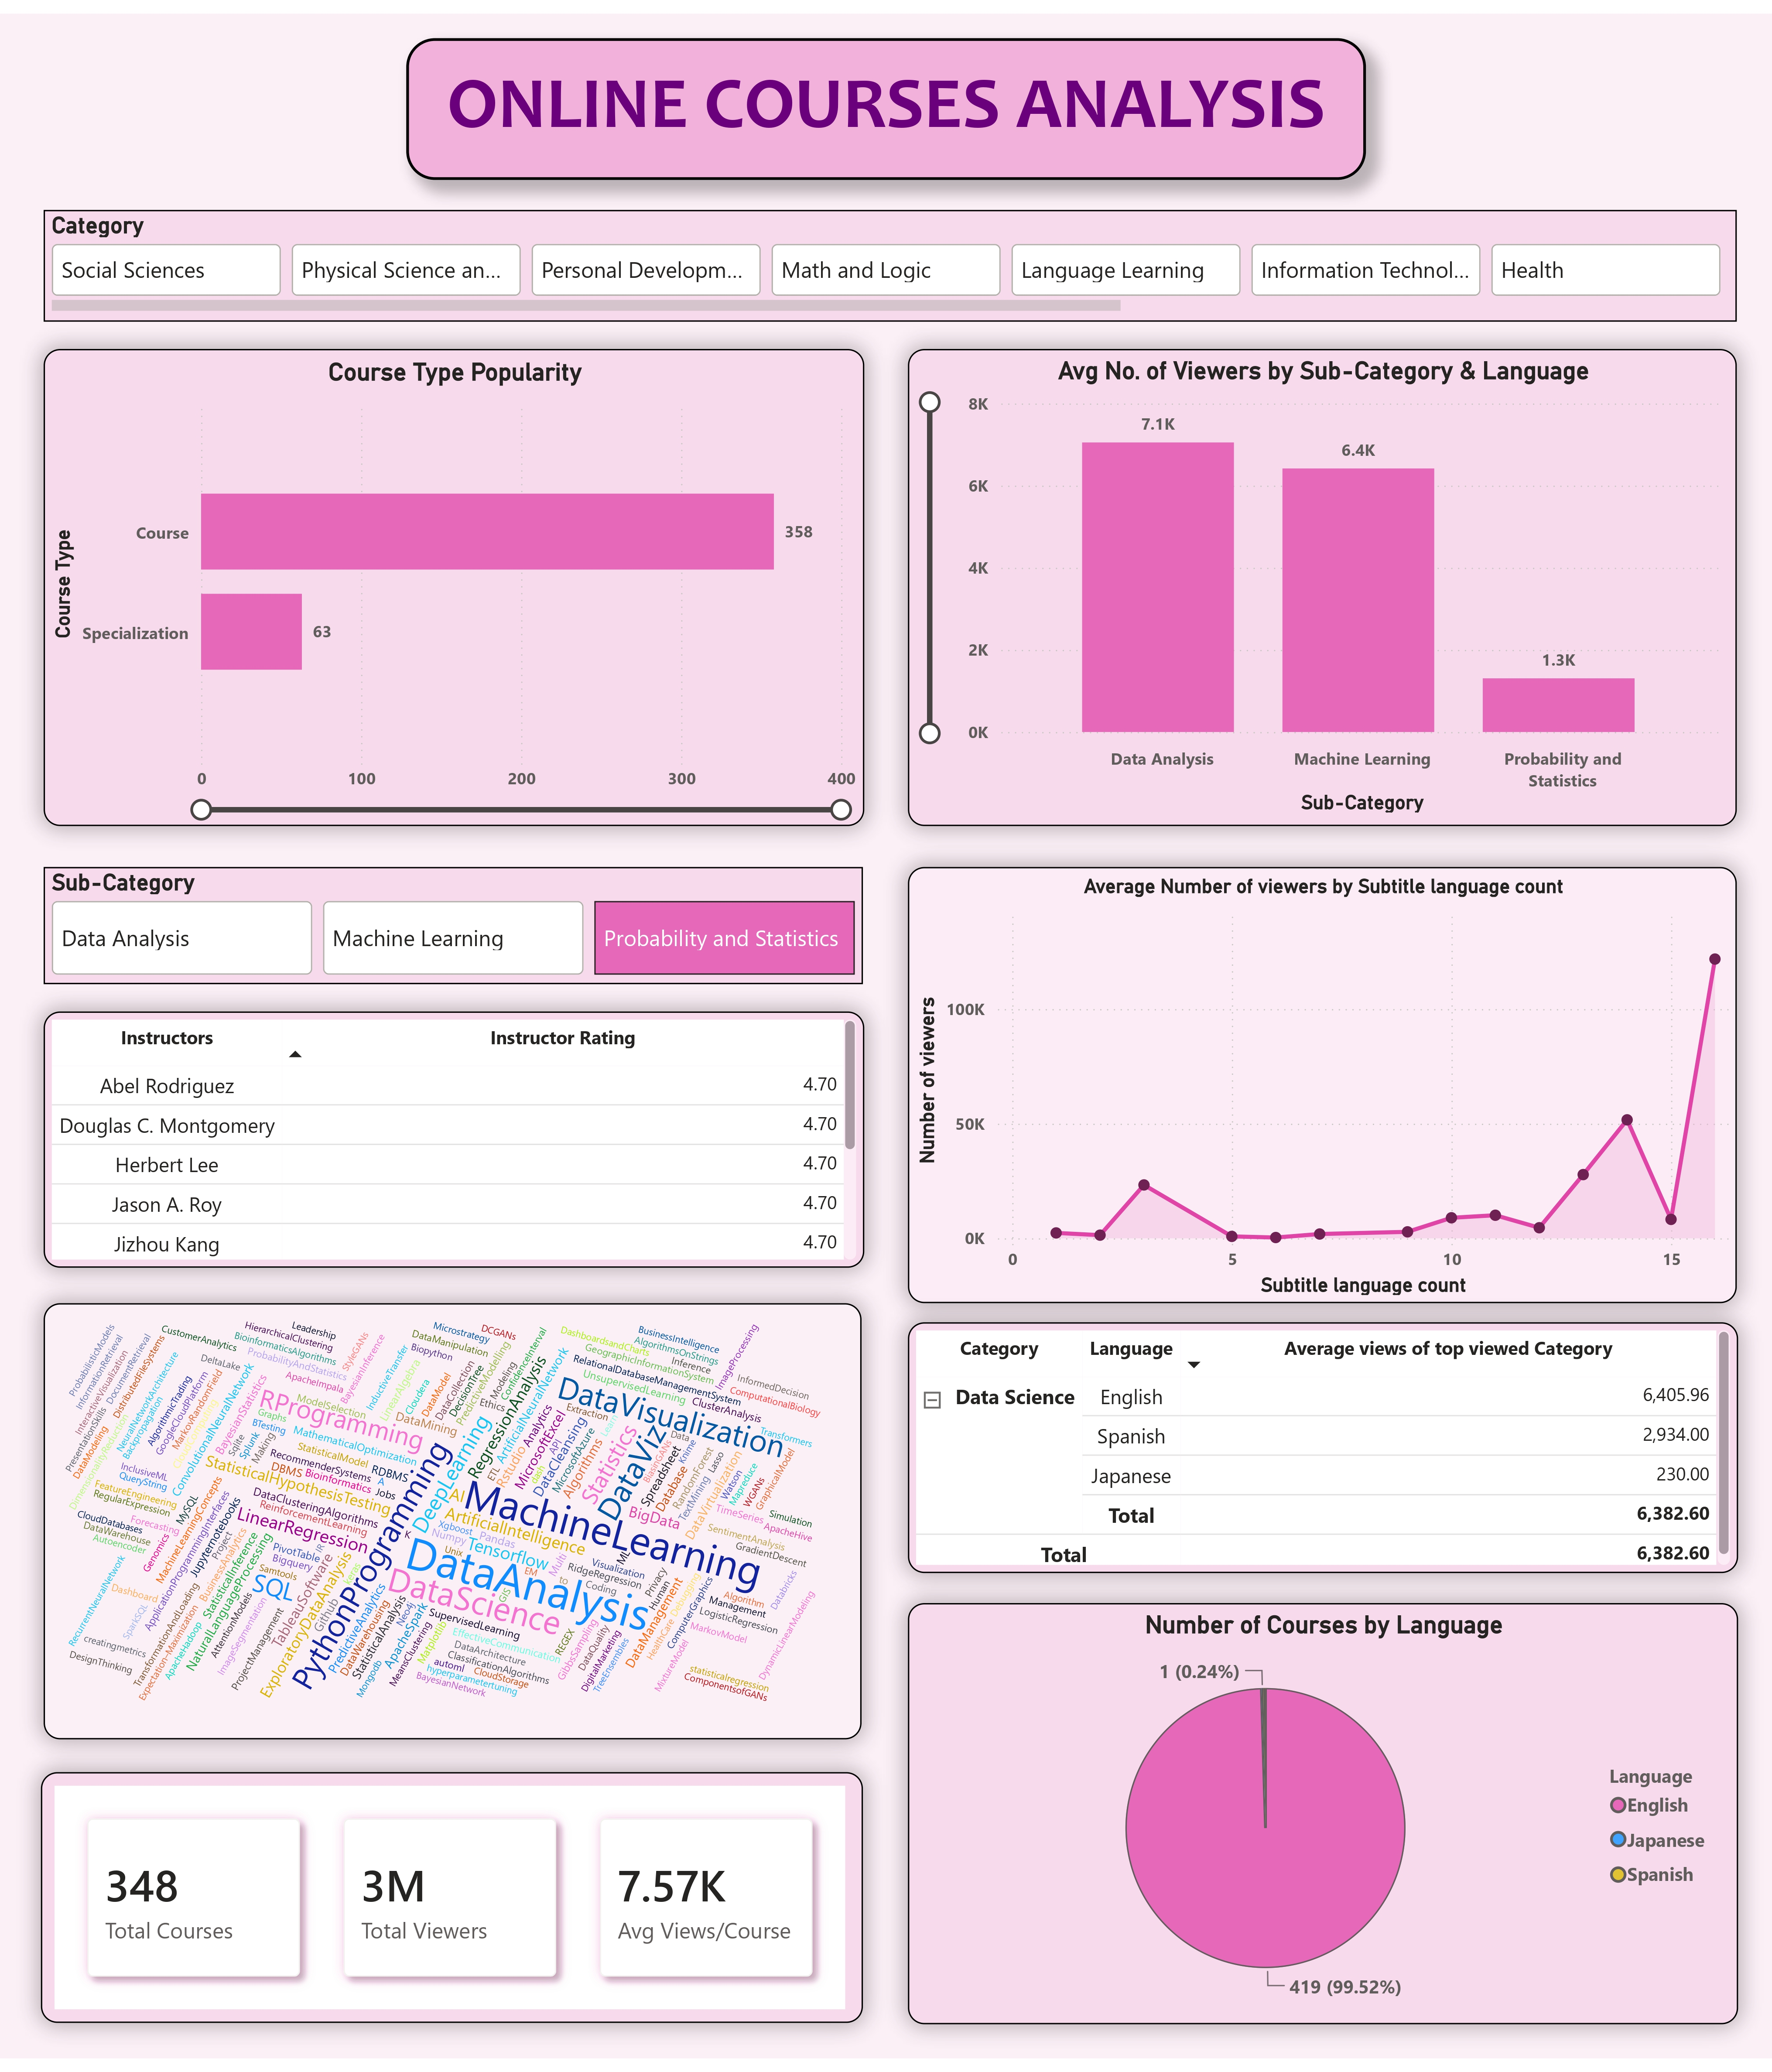

Layout of this report page (visuals, bound fields, positions):
{"tool":"powerbi","page":{"name":"Page 1","canvas":[1300,1500],"ordinal":0},"visuals":[{"type":"textbox","box":[298,18,704,104],"z":0},{"type":"barChart","title":"Course Type Popularity","fields":{"Y":["CountNonNull(Online_Courses.Course ID)"],"Category":["Online_Courses.Course Type"]},"box":[32,246,602,350],"z":1000},{"type":"advancedSlicerVisual","fields":{"Values":["Online_Courses.Category"]},"box":[32,144,1242,82],"z":2000},{"type":"columnChart","title":"Avg No. of Viewers by Sub-Category & Language","fields":{"Category":["Online_Courses.Sub-Category","Online_Courses.Language"],"Y":["Avg(Online_Courses.Number of viewers)"]},"box":[666,246,608,350],"z":3000},{"type":"pieChart","title":"Number of Courses by Language","fields":{"Category":["Online_Courses.Language"],"Y":["CountNonNull(Online_Courses.Course ID)"]},"box":[665.7,1165.7,608.6,308.6],"z":4000},{"type":"pivotTable","fields":{"Rows":["Online_Courses.Category","Online_Courses.Language"],"Values":["Online_Courses.Rank_categories_on_basis_of_avg_views"]},"box":[665.7,960,608.6,184.3],"z":5000},{"type":"lineChart","title":"Average Number of viewers by Subtitle language count","fields":{"Y":["Avg(Online_Courses.Number of viewers)"],"Category":["Online_Courses.Subtitle language count"]},"box":[666,626,608,320],"z":6000},{"type":"pivotTable","fields":{"Rows":["temp.Instructors"],"Values":["temp.Instructor Rating"]},"box":[32,732,602,188],"z":7000},{"type":"advancedSlicerVisual","fields":{"Values":["temp.Sub-Category"]},"box":[31.4,625.7,601.4,85.7],"z":8000},{"type":"cardVisual","fields":{"Data":["Online_Courses.Total Courses","Online_Courses.Total Viewers","Online_Courses.Avg Views/Course"]},"box":[30,1290,602.9,184.3],"z":9000},{"type":"WordCloud1447959067750","fields":{"Category":["Online_Courses.Skills"]},"box":[32,946,600,320],"z":10000}]}

Visuals, with their boxes in screenshot pixels (x1, y1, x2, y2), scaled from the page's 1300x1500 canvas onto the 1772x2072 screenshot:
textbox: <region>406, 25, 1366, 168</region>
"Course Type Popularity" barChart: <region>44, 340, 864, 823</region>
advancedSlicerVisual - Online_Courses.Category: <region>44, 199, 1737, 312</region>
"Avg No. of Viewers by Sub-Category & Language" columnChart: <region>908, 340, 1737, 823</region>
"Number of Courses by Language" pieChart: <region>907, 1610, 1737, 2037</region>
pivotTable - Online_Courses.Category x Online_Courses.Language: <region>907, 1326, 1737, 1581</region>
"Average Number of viewers by Subtitle language count" lineChart: <region>908, 865, 1737, 1307</region>
pivotTable - temp.Instructors x temp.Instructor Rating: <region>44, 1011, 864, 1271</region>
advancedSlicerVisual - temp.Sub-Category: <region>43, 864, 862, 983</region>
cardVisual - Online_Courses.Total Courses x Online_Courses.Total Viewers: <region>41, 1782, 863, 2037</region>
WordCloud1447959067750 - Online_Courses.Skills: <region>44, 1307, 862, 1749</region>
